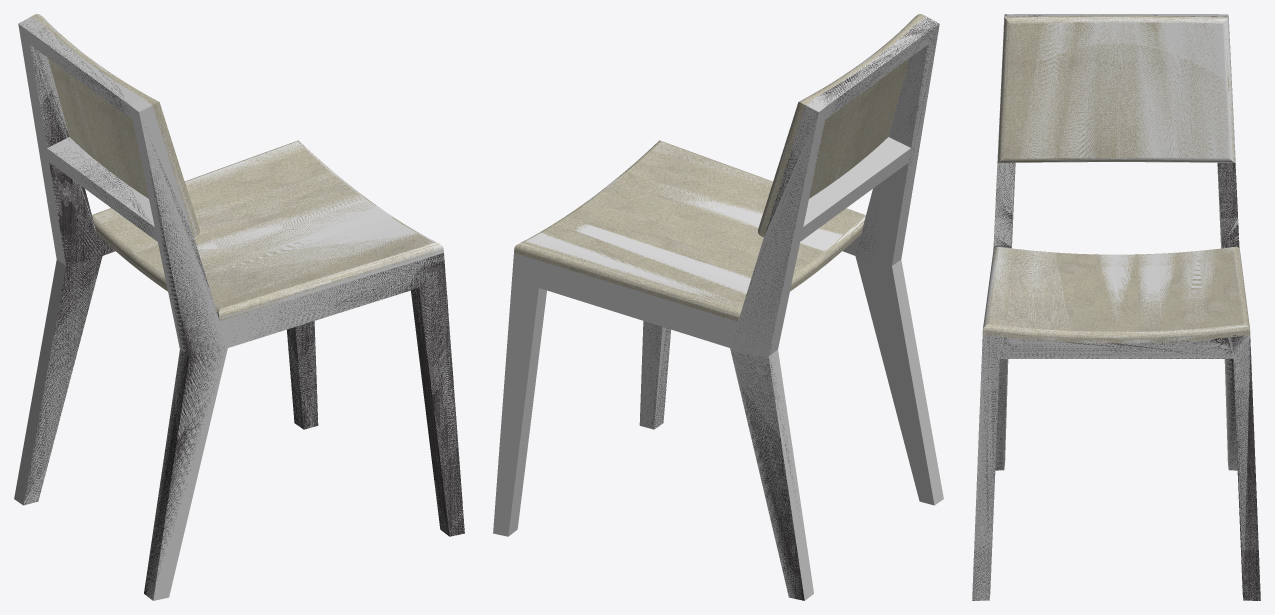
The model's file is chair_1.dae.
3 renders of one model, left to right at view 1: azimuth 30°, elevation 25°; view 2: azimuth 150°, elevation 25°; view 3: azimuth 270°, elevation 25°, orthographic. The views are drawn at different scales.
Visible parts, largest first — view 1: instance_0.003, instance_1_001, instance_1.001, instance_1.033, instance_0, instance_1.003, instance_2.002, instance_1_003, instance_1, instance_2; view 2: instance_0.003, instance_1_005, instance_1.033, instance_1_002, instance_0, instance_2.002, instance_1.005, instance_1; view 3: instance_2.002, instance_2, instance_0.003, instance_1.033, instance_1, instance_0, instance_1_002, instance_1_003.
Boxes of the visible parts, x1,y1,x2,y2 form: instance_0.003: (92, 140, 442, 321); instance_1_001: (139, 105, 447, 600); instance_1.001: (144, 127, 464, 586); instance_1.033: (14, 17, 448, 600); instance_0: (95, 140, 443, 320); instance_1.003: (24, 45, 318, 505); instance_2.002: (31, 14, 199, 237); instance_1_003: (23, 45, 317, 505); instance_1: (19, 18, 449, 598); instance_2: (32, 14, 197, 236); instance_0.003: (514, 140, 865, 321); instance_1_005: (493, 105, 818, 598); instance_1.033: (508, 16, 943, 600); instance_1_002: (639, 45, 934, 505); instance_0: (519, 142, 865, 316); instance_2.002: (758, 14, 926, 237); instance_1.005: (732, 106, 817, 600); instance_1: (654, 17, 938, 507); instance_2.002: (998, 15, 1235, 162); instance_2: (997, 15, 1235, 162); instance_0.003: (982, 246, 1250, 343); instance_1.033: (972, 14, 1260, 600); instance_1: (972, 14, 1260, 600); instance_0: (983, 246, 1250, 343); instance_1_002: (989, 163, 1015, 597); instance_1_003: (1217, 163, 1240, 526).
Bounding box in the file's own units: 0.5399 × 0.4734 × 0.8182.
12 materials, 2 textured.
